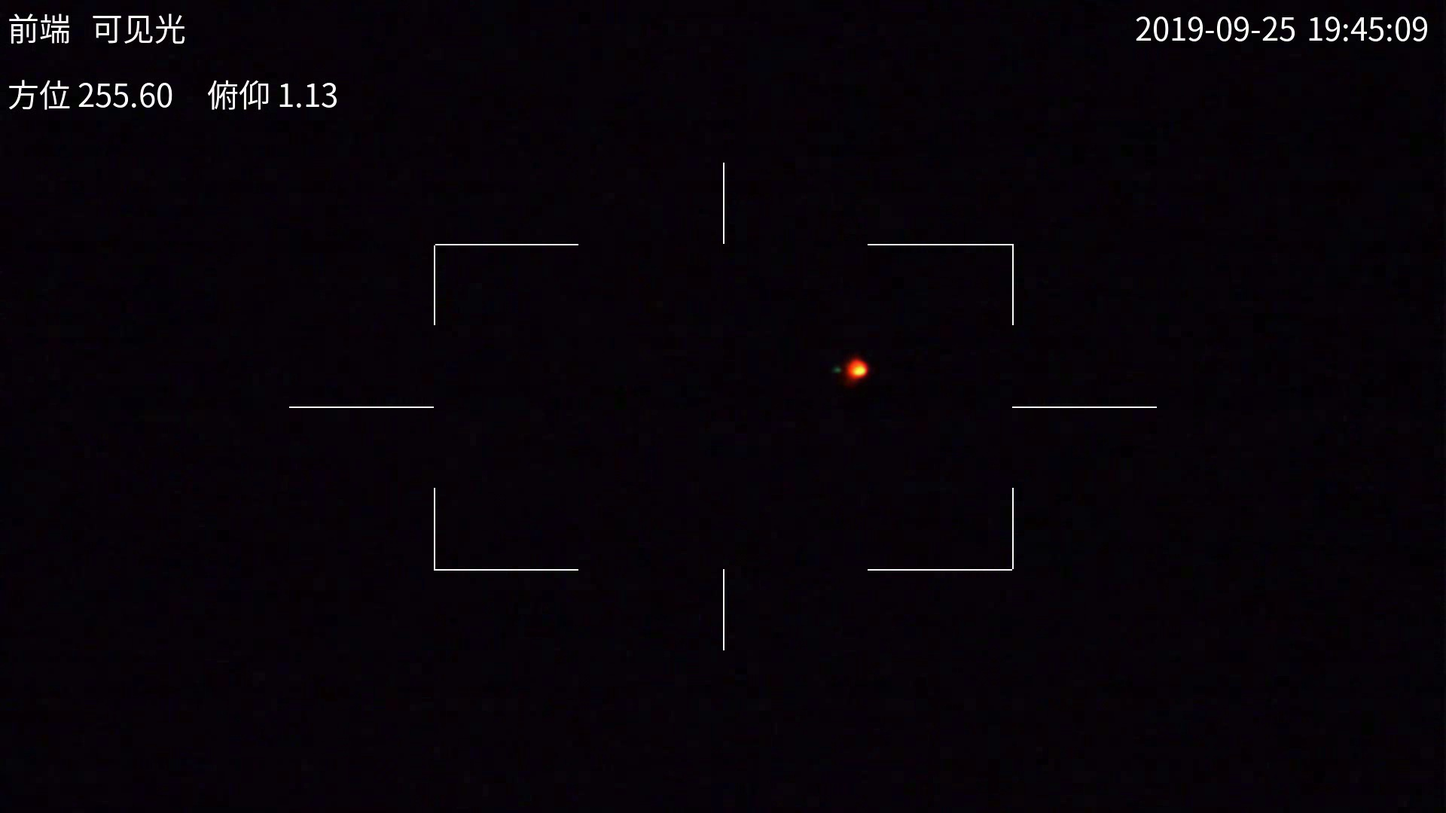drone: (831, 358, 868, 389)
